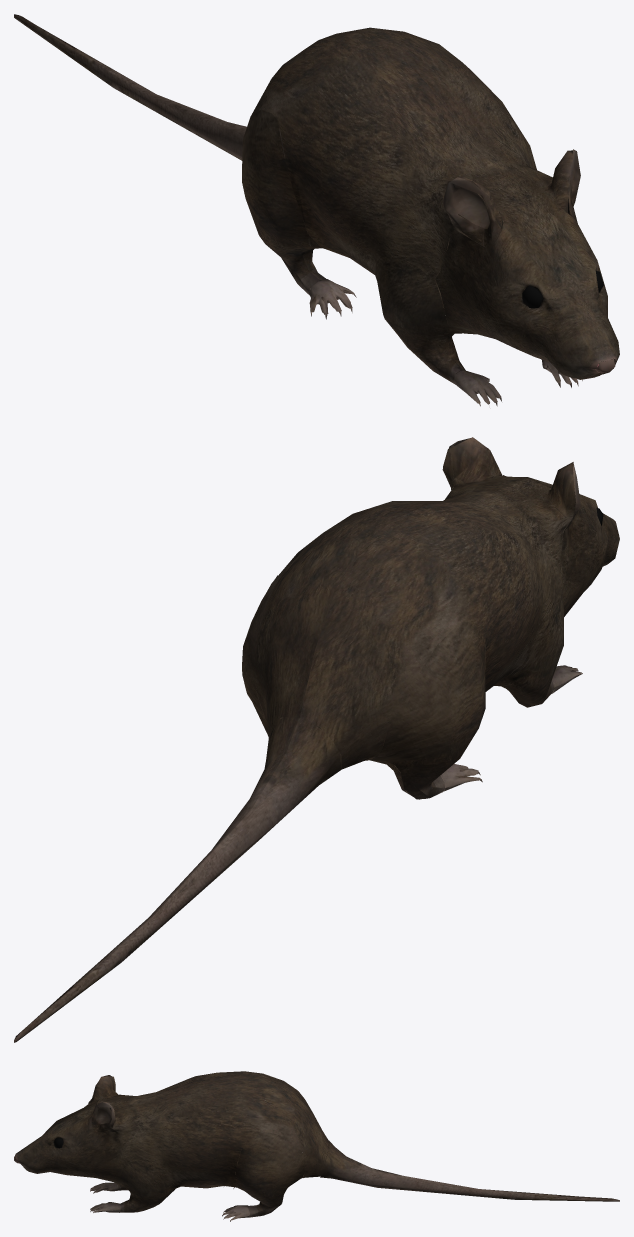
Rendered from street_rat_1k.gltf.
The picture shows the model from 3 angles, top to bottom: view 1: azimuth 30°, elevation 25°; view 2: azimuth 150°, elevation 25°; view 3: azimuth 270°, elevation 25°; orthographic projection. The views are drawn at different scales.
Parts seen in each view (by area): view 1: street_rat; view 2: street_rat; view 3: street_rat.
Boxes of the visible parts, x1,y1,x2,y2 form: street_rat: [14, 14, 619, 406]; street_rat: [14, 437, 619, 1042]; street_rat: [14, 1071, 619, 1221].
Bounding box in the file's own units: 0.0321 × 0.0338 × 0.1483.
Materials: 1 (1 with a texture image).
